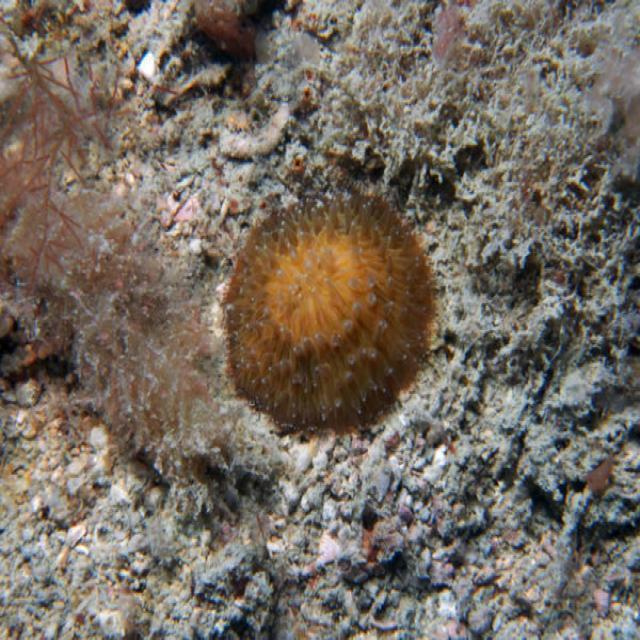Healthy Coral: (225, 184, 446, 441)
